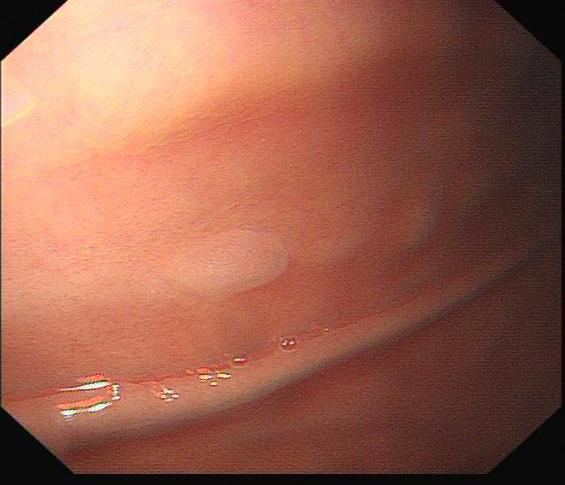Polyp: (157, 227, 290, 308)
